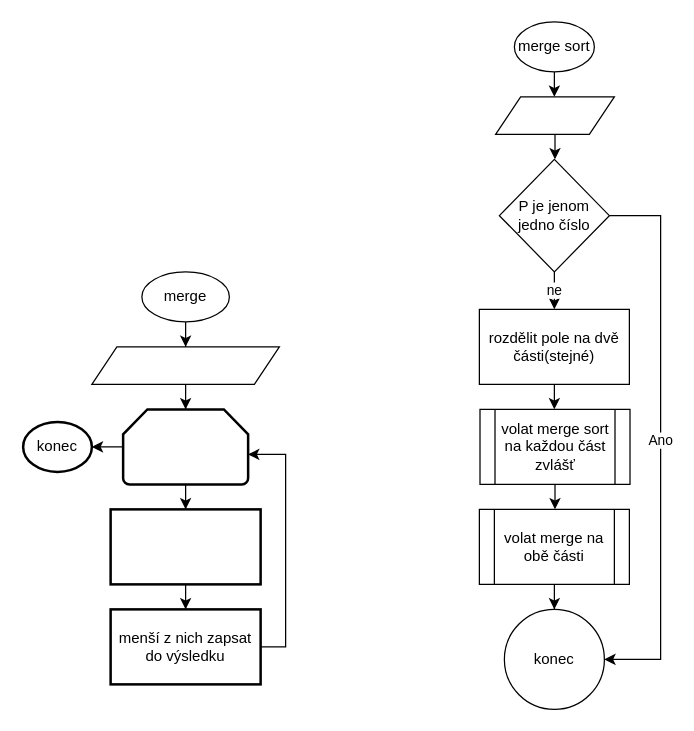
Image size: 694x731. Some labels were removed from this diagram. The shapes that lost their labels are listed below. From the top down, each one's centre as x and y in pixels, then its label:
the point at 554,115: pole čísel P
the point at 185,365: 2 seřazená pole (a,b)
the point at 185,446: do počtu prvků a+b
the point at 185,546: porovnáme nejmenší nepoužité číslo z pole a z pole b
